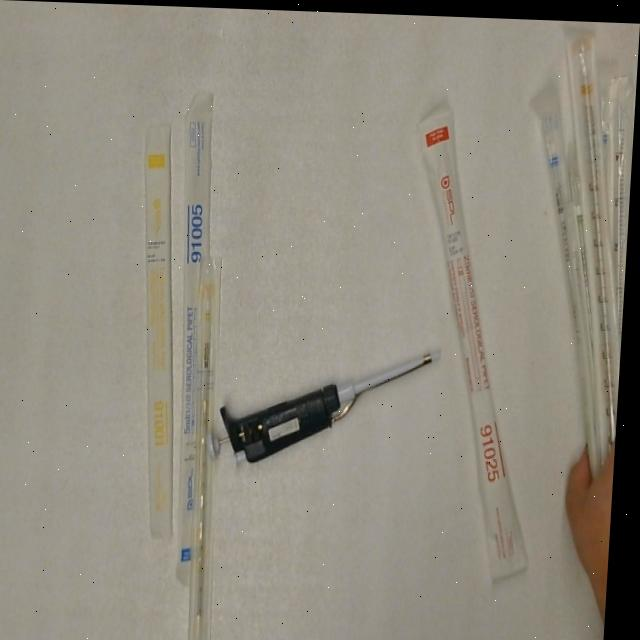Serelogical Pipet 1 mL: (124, 119, 198, 541), (183, 249, 242, 640)
Serelogical Pipet 10 mL: (546, 19, 640, 445)
Serelogical Pipet 25 mL: (396, 90, 558, 581)
Serelogical Pipet 5 mL: (521, 94, 624, 477), (165, 83, 236, 587)
Single Channel Pipettor: (209, 335, 452, 469)
